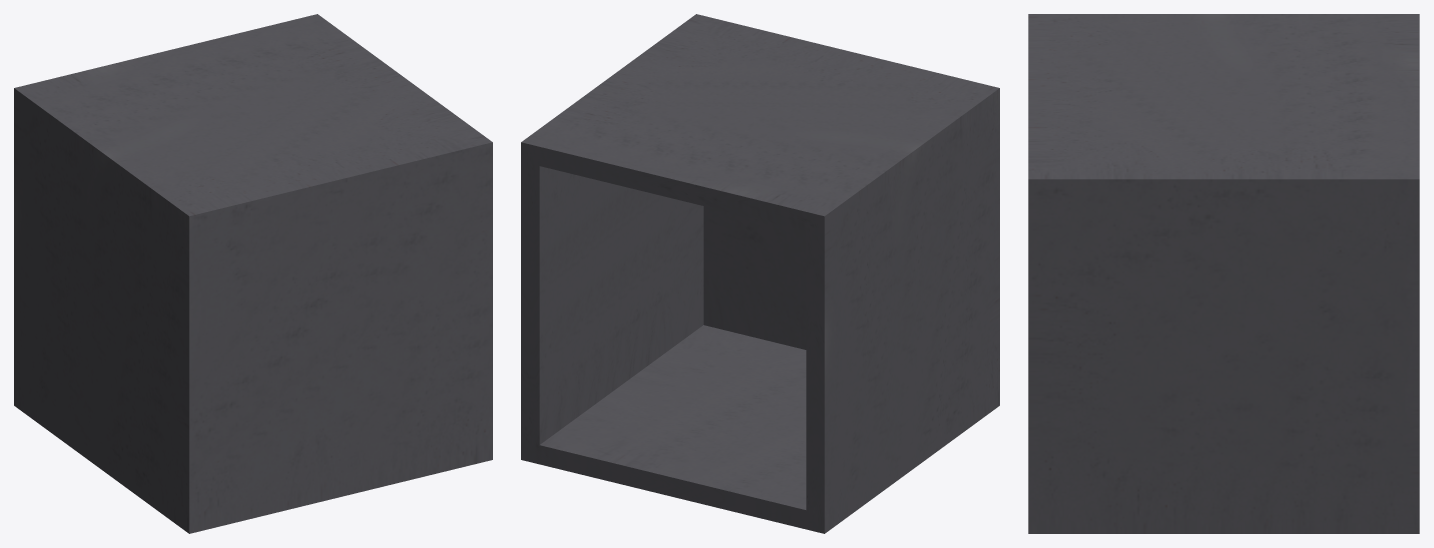
Rendered from oneRoom.fbx.
The picture shows the model from 3 angles, left to right: view 1: azimuth 30°, elevation 25°; view 2: azimuth 150°, elevation 25°; view 3: azimuth 270°, elevation 25°; orthographic projection. The views are drawn at different scales.
Visible parts, largest first — view 1: oneRoom1:RoadKillOut; view 2: oneRoom1:RoadKillOut; view 3: oneRoom1:RoadKillOut.
Boxes of the visible parts, x1,y1,x2,y2 form: oneRoom1:RoadKillOut: [14, 14, 492, 533]; oneRoom1:RoadKillOut: [521, 14, 999, 533]; oneRoom1:RoadKillOut: [1028, 14, 1419, 533].
Bounding box in the file's own units: 20 × 20 × 20.
Materials: 1 (1 with a texture image).
